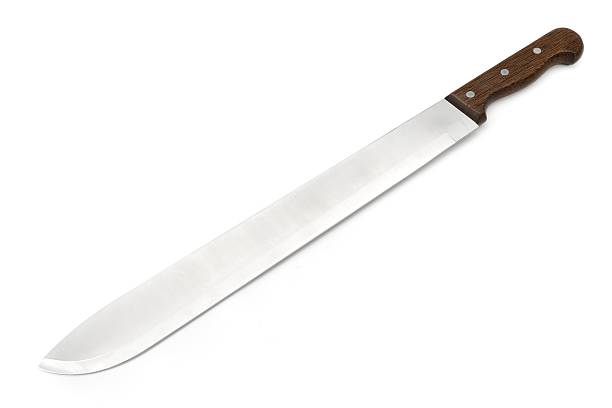knife: (38, 26, 584, 376)
